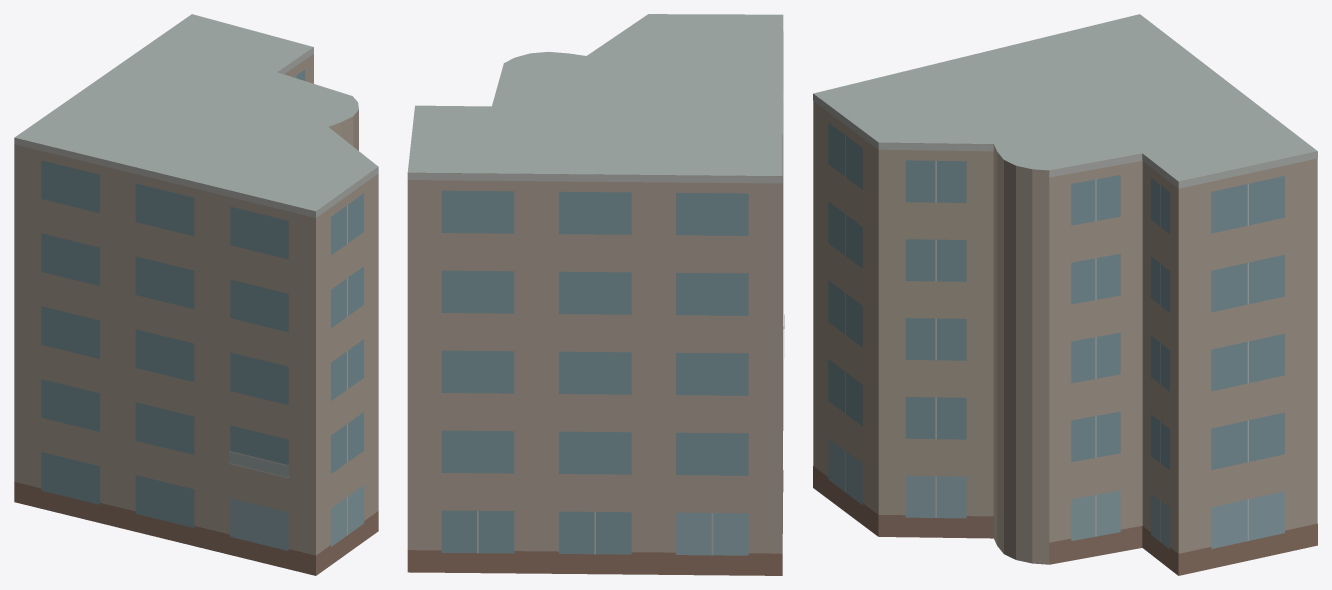
Rendered from survey-upis-32856339.glb.
The picture shows the model from 3 angles, left to right: view 1: azimuth 30°, elevation 25°; view 2: azimuth 150°, elevation 25°; view 3: azimuth 270°, elevation 25°; orthographic projection. The views are drawn at different scales.
Parts seen in each view (by area): view 1: survey-upis-32856339.tmp; view 2: survey-upis-32856339.tmp; view 3: survey-upis-32856339.tmp.
Boxes of the visible parts, <box> form: survey-upis-32856339.tmp: <box>14,14,378,575</box>; survey-upis-32856339.tmp: <box>407,14,784,575</box>; survey-upis-32856339.tmp: <box>813,14,1317,575</box>.
Bounding box in the file's own units: 12.13 × 13.3 × 15.43.
